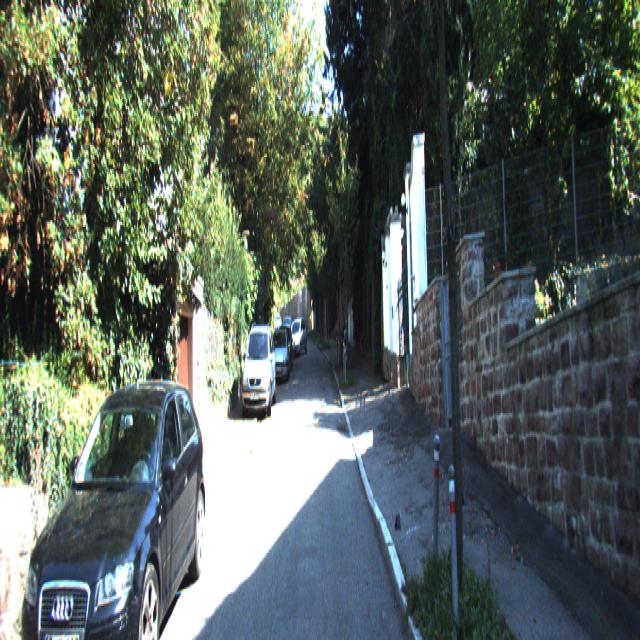Car: (11, 367, 208, 638), (241, 320, 277, 422), (271, 318, 290, 378), (288, 315, 308, 357)
